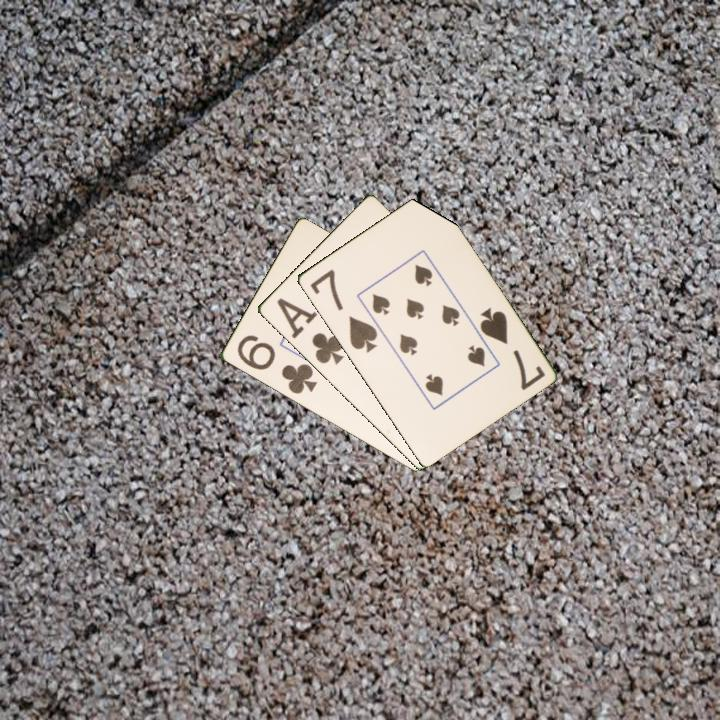6c: (233, 331, 319, 397)
7s: (306, 265, 380, 356), (476, 304, 548, 393)
Ac: (272, 294, 346, 368)
